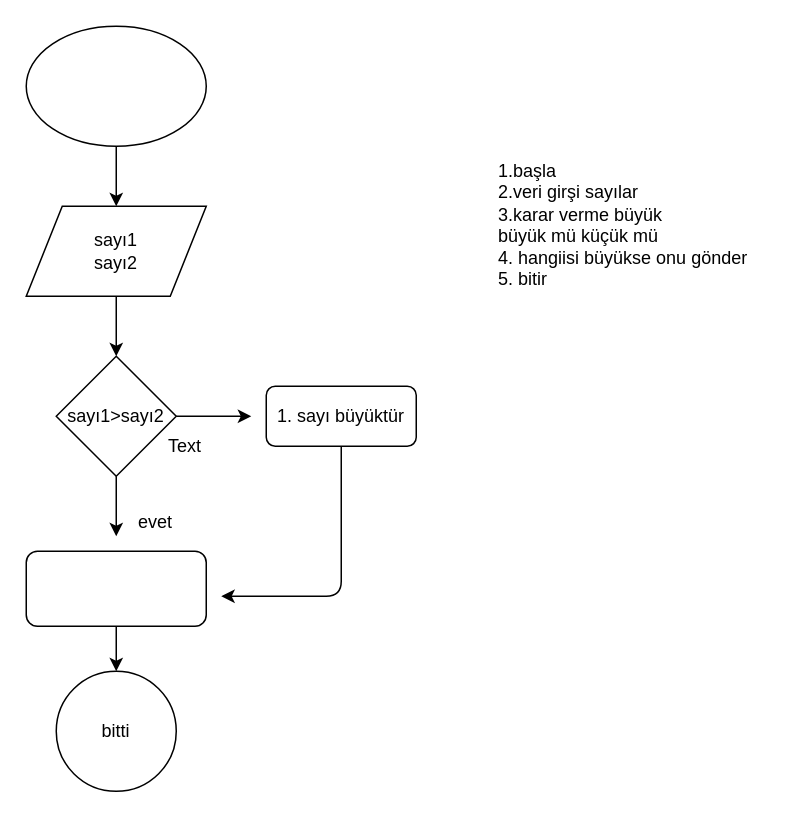
Image size: 792x818. Some labels were removed from this diagram. Each missing label, with the box of its shape:
2.sayı büyüktür: (25, 550, 206, 626)
başla: (25, 25, 206, 146)
